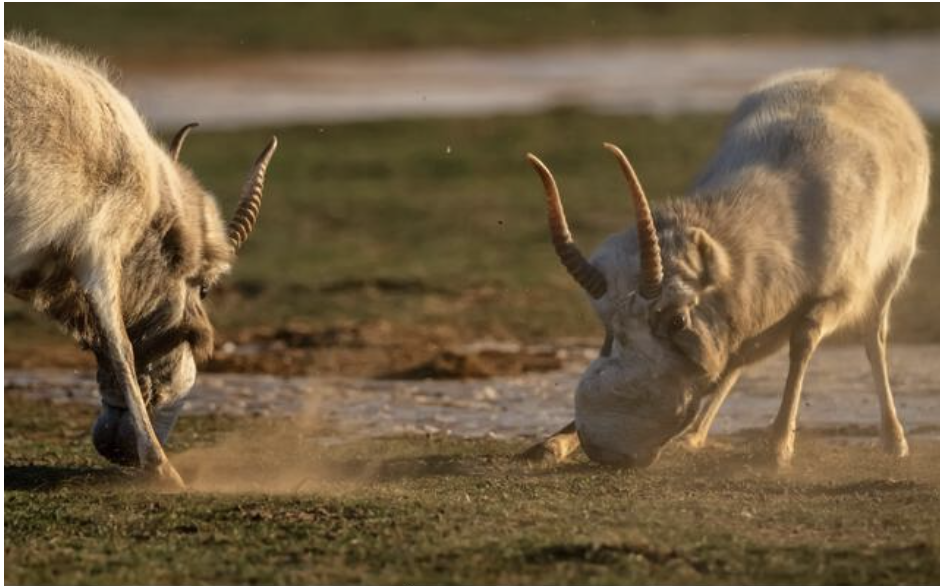saiga: (499, 26, 940, 480)
